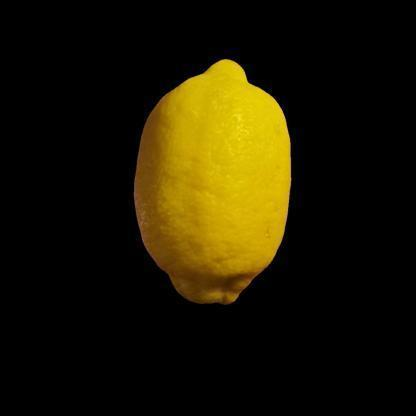lemon: (134, 58, 292, 304)
